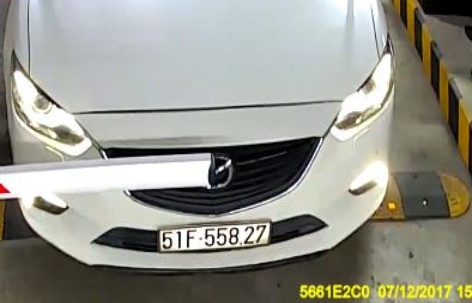plate: (152, 213, 285, 252)
